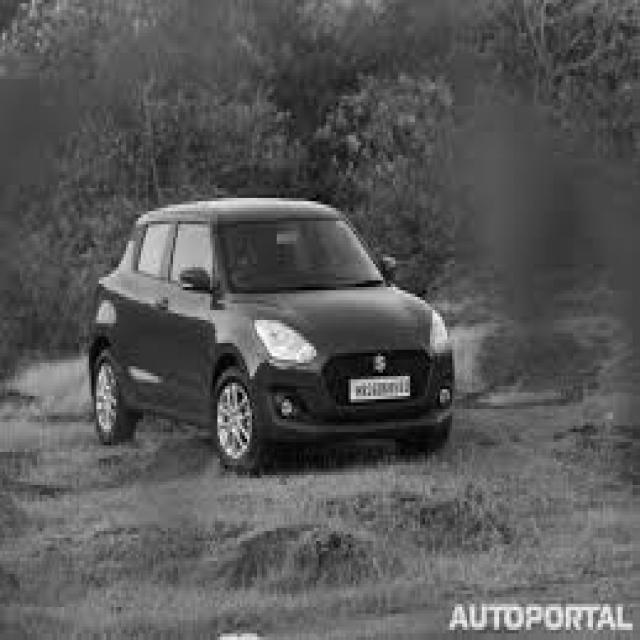Car: (86, 199, 454, 468)
